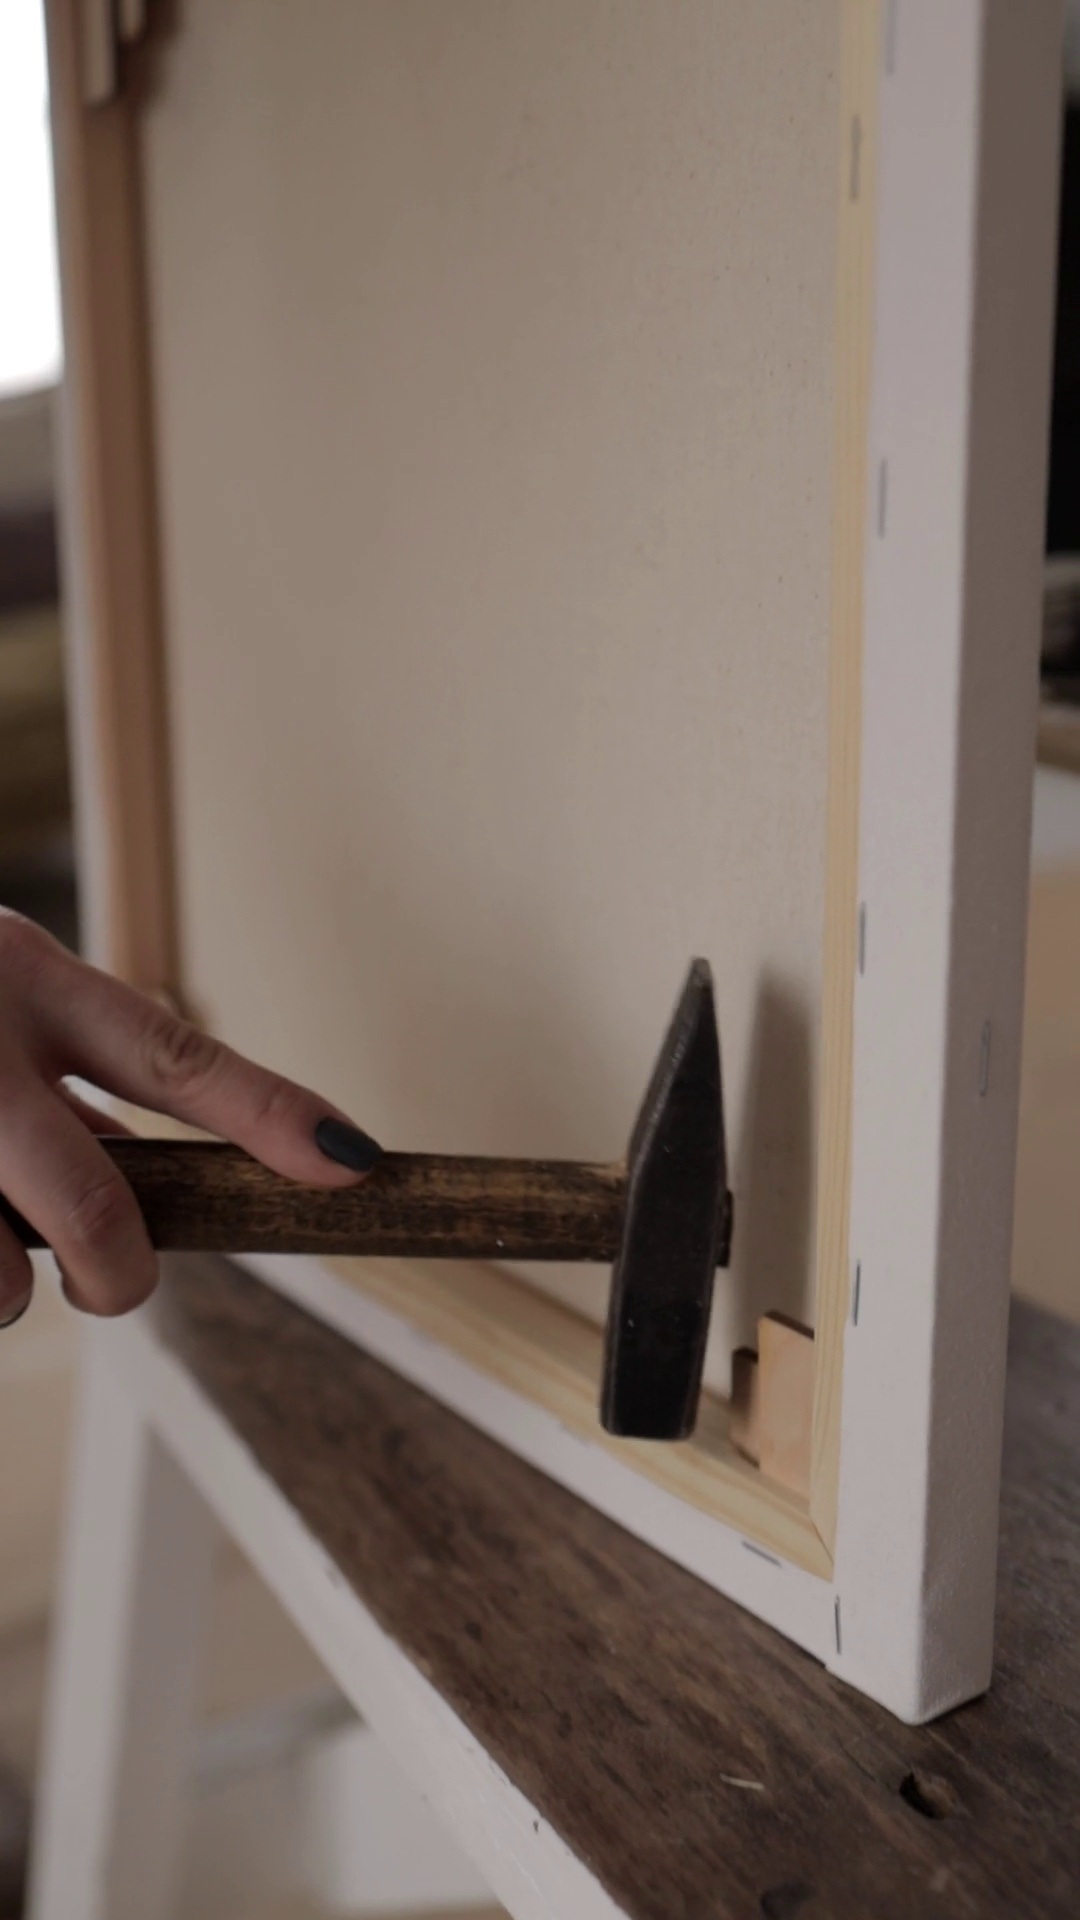hammer: (1, 953, 744, 1451)
